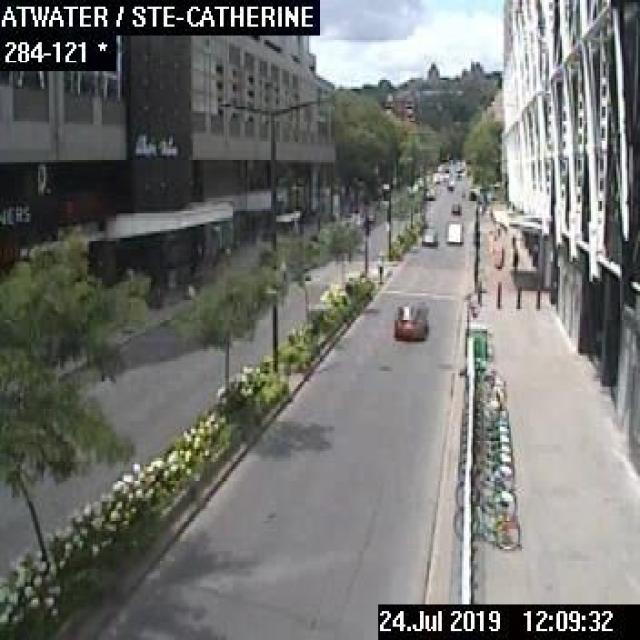vehicle: (391, 302, 427, 340), (444, 220, 462, 244), (420, 230, 436, 244), (450, 200, 460, 213)
